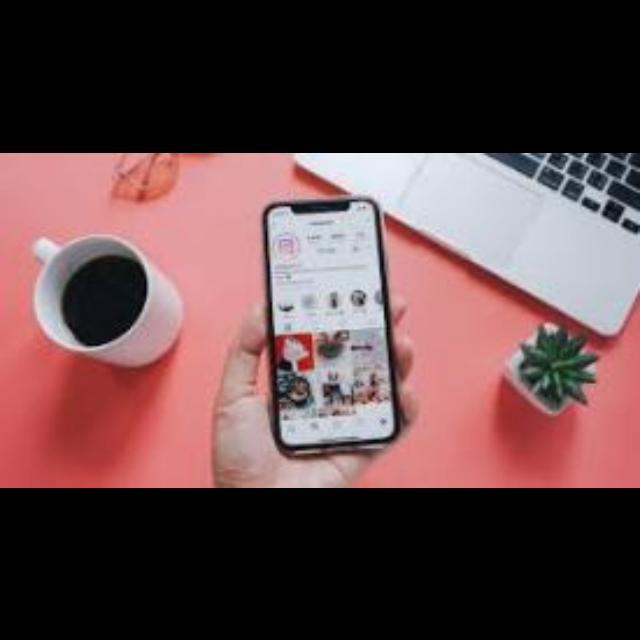Phone: (258, 198, 398, 450)
